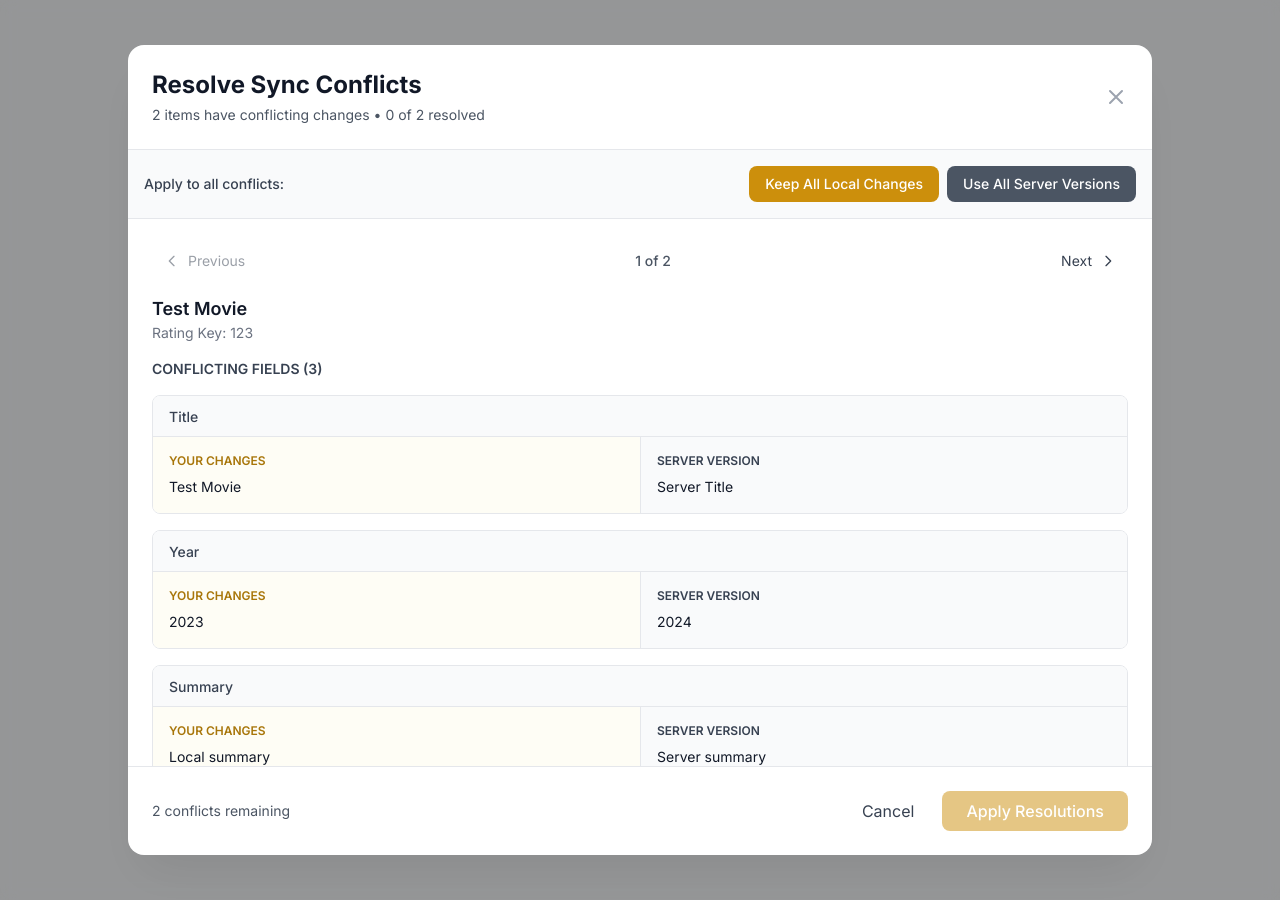
Test: ConflictResolutionModal › Navigation › should disable next button on last conflict
The width and height of the screenshot is (1280, 900).
Click the button "Next" at {"x": 1089, "y": 261}, box left=1049, top=243, right=1128, bottom=279
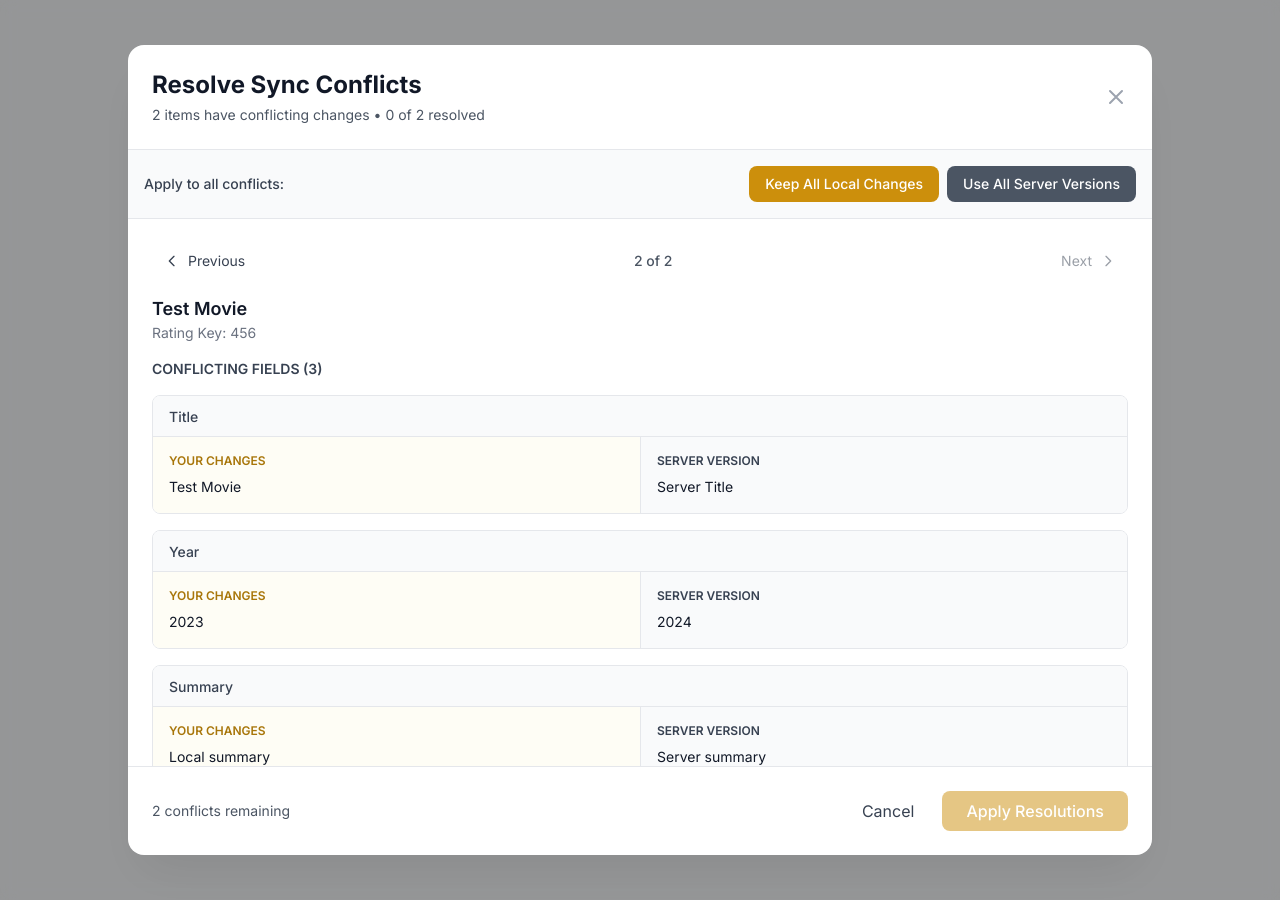
Check: the button "Next" is disabled, box left=1049, top=243, right=1128, bottom=279
